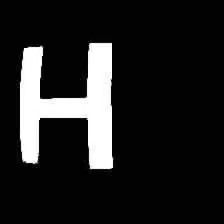LTR_H: (12, 34, 123, 178)
